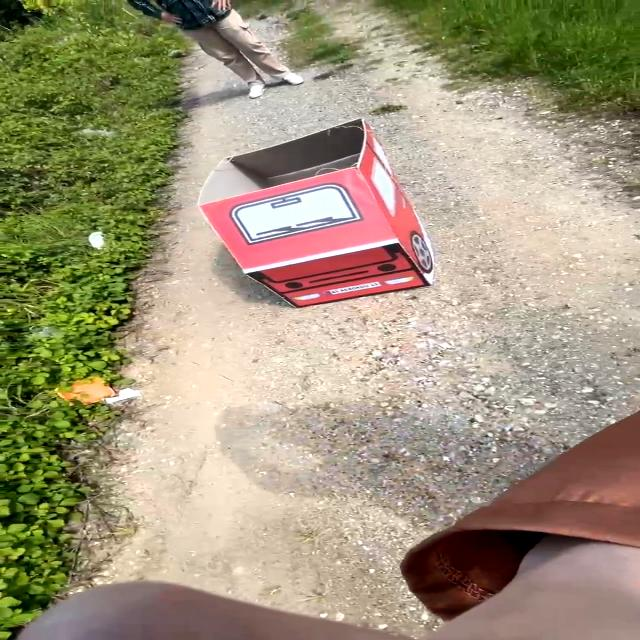red_car: (180, 114, 471, 323)
